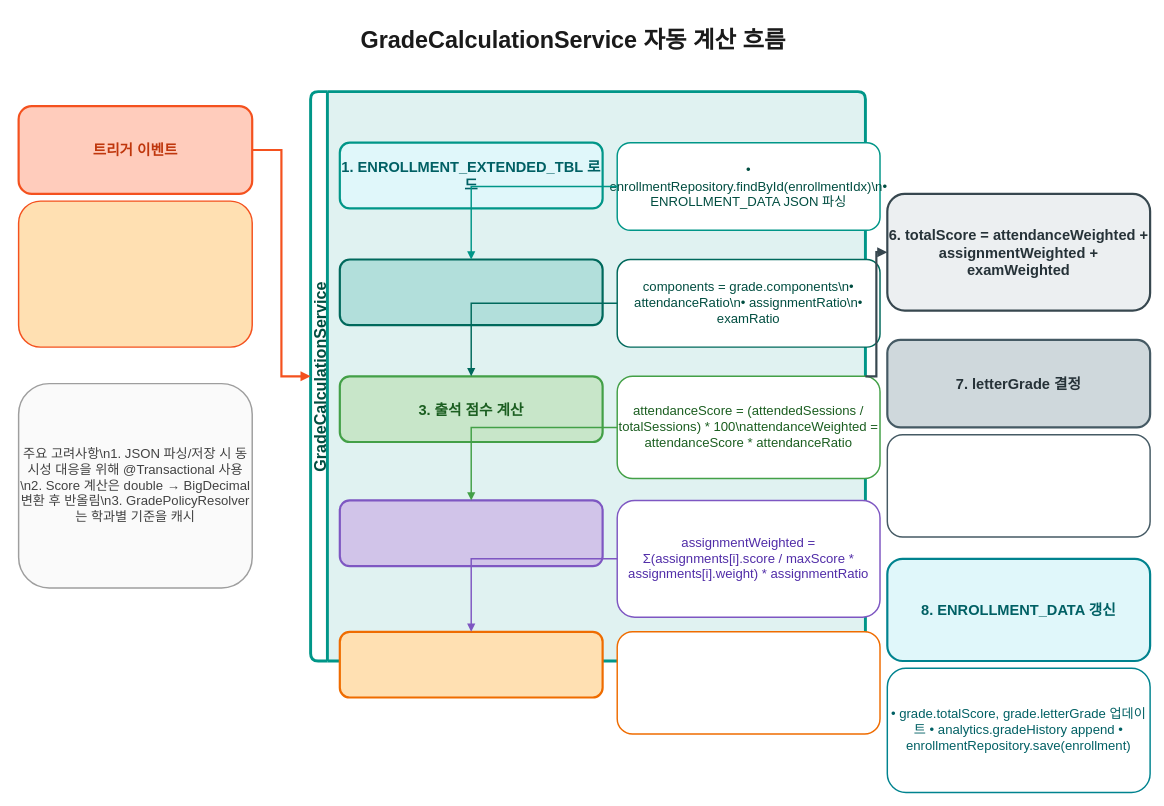
The diagram is 1164 pixels wide and 806 high, and some of its shapes have lost their labels. The box of each missing label's shape, as (x1, y1, x2, y2) in pixels:
2. 가중치 읽기: (338, 258, 603, 326)
4. 과제 점수 계산: (338, 499, 603, 567)
5. 시험 점수 계산: (338, 630, 603, 698)
examWeighted = Σ(exams[i].score / maxScore * exams[i].weight) * examRatio: (616, 631, 880, 734)
if totalScore ≥ 95 → A+ ... GradePolicyResolver에서 컷오프 조회: (886, 434, 1150, 537)
• GradeUpdateEvent\n• Attendance 승인\n• Assignment 점수 입력\n• 시험 점수 입력: (18, 200, 253, 347)
